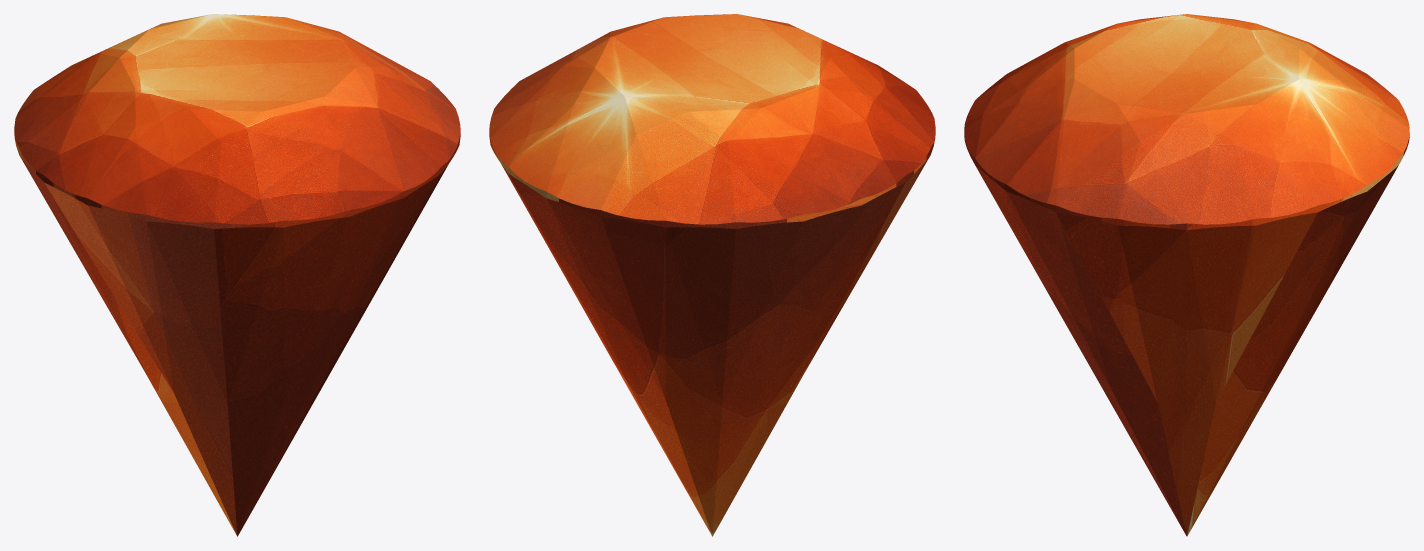
The model's file is Crystal.fbx.
The picture shows the model from 3 angles, left to right: view 1: azimuth 30°, elevation 25°; view 2: azimuth 150°, elevation 25°; view 3: azimuth 270°, elevation 25°; orthographic projection.
Parts seen in each view (by area): view 1: crystal; view 2: crystal; view 3: crystal.
Boxes of the visible parts, x1=… form: crystal: x1=14, y1=14, x2=460, y2=536; crystal: x1=489, y1=14, x2=935, y2=536; crystal: x1=964, y1=14, x2=1409, y2=536.
Size of the model in its own units: 40.29 by 47.2 by 40.29.
1 material, 1 textured.
